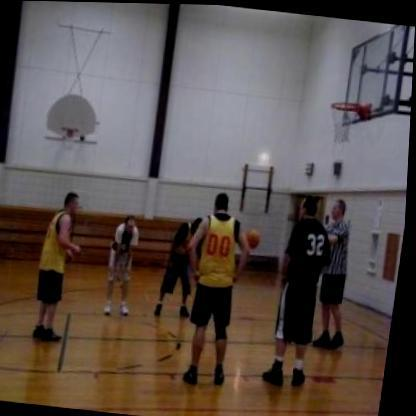basketball: (240, 221, 272, 250)
